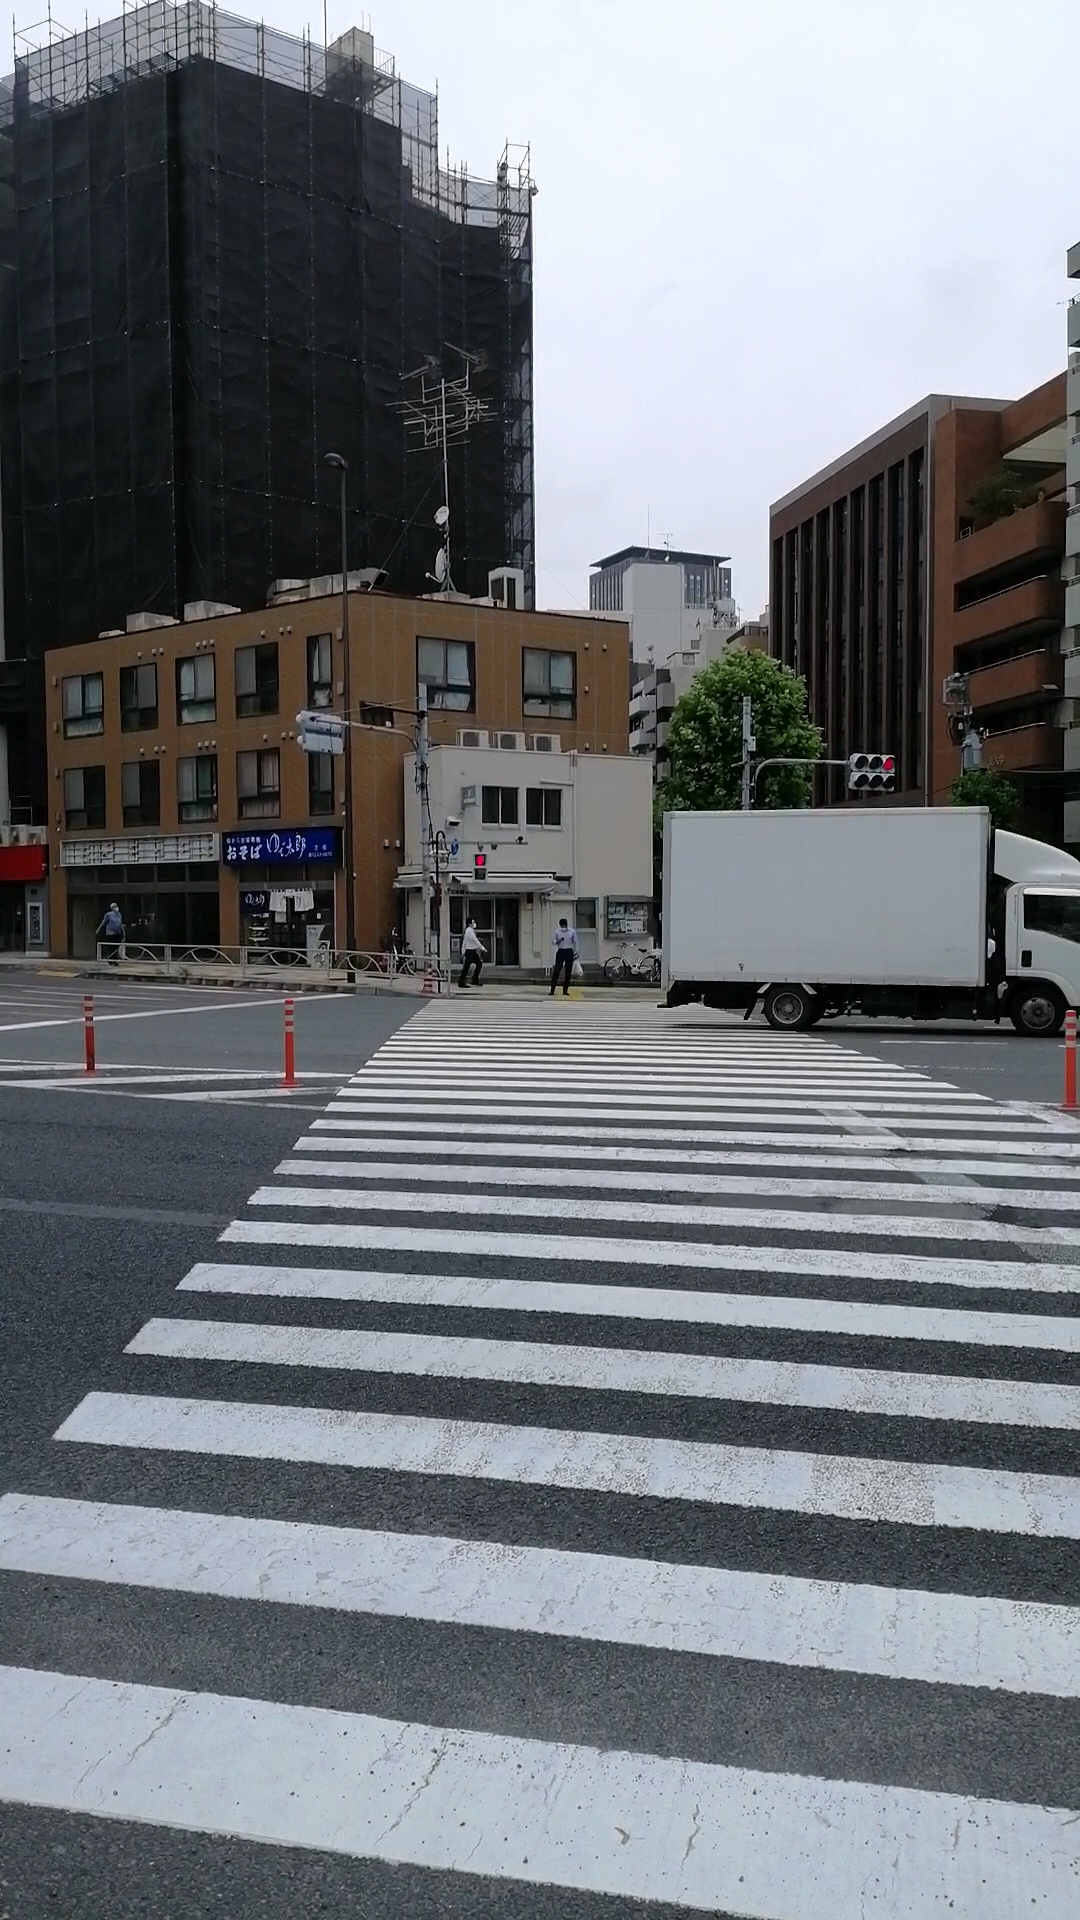red: (471, 852, 487, 882)
